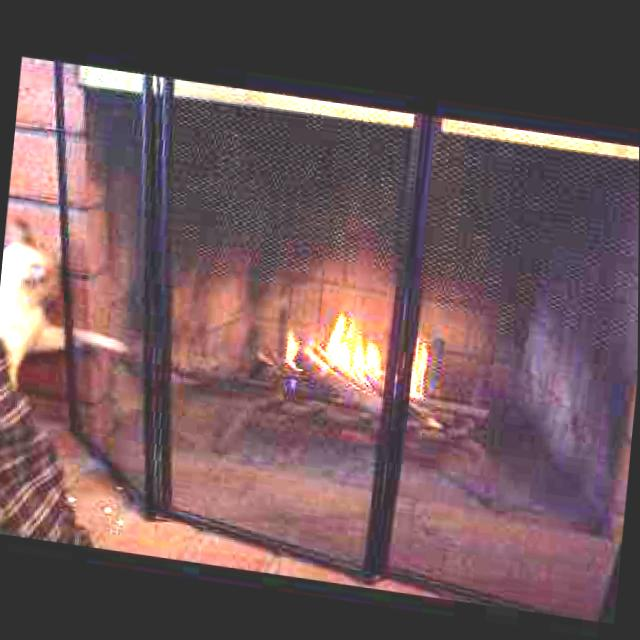Fire: (276, 292, 439, 393)
